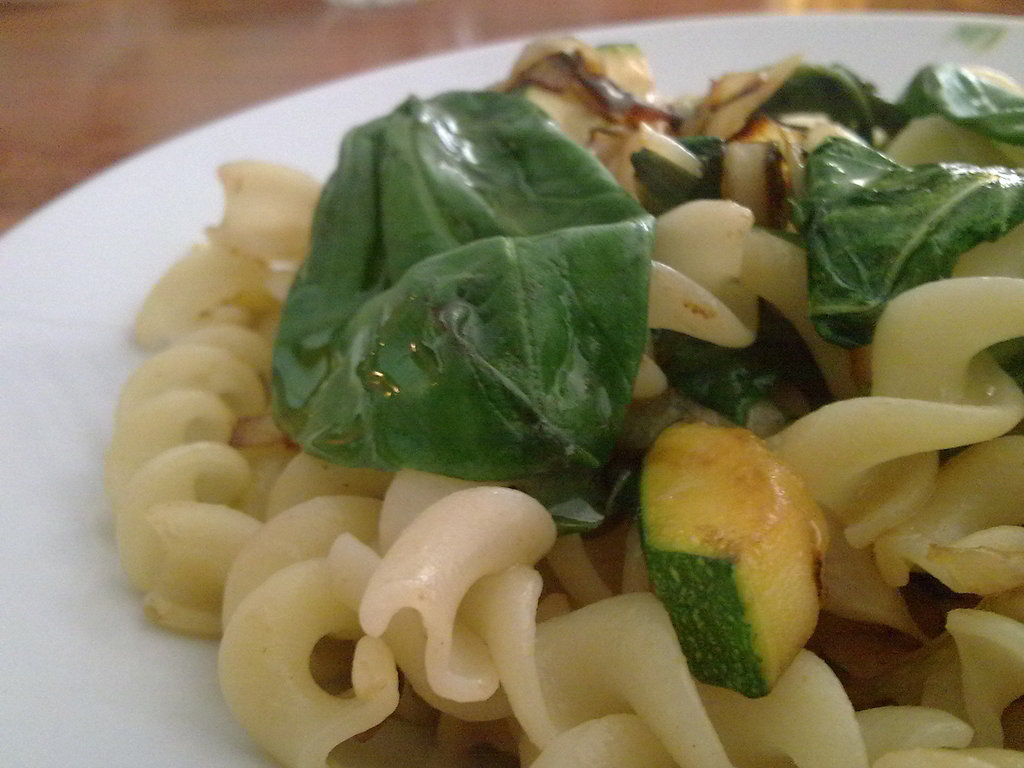pasta: (68, 22, 988, 768)
